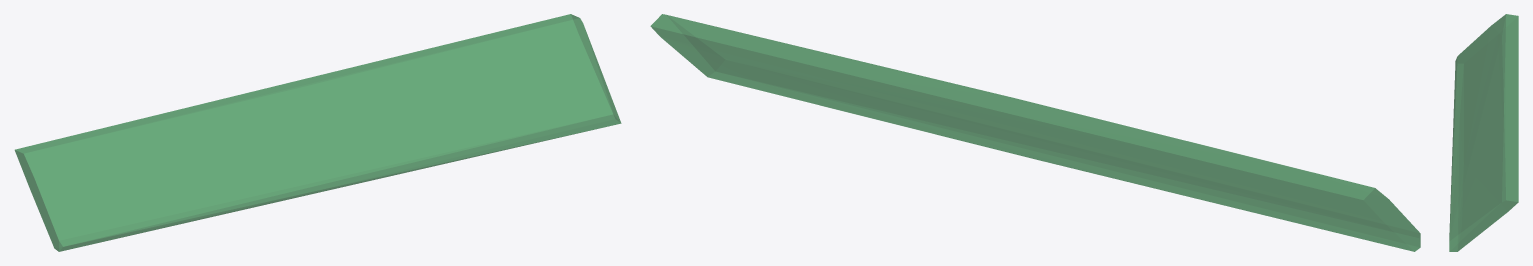
3 views of the same model, side by side, from view 1: azimuth 30°, elevation 25°; view 2: azimuth 150°, elevation 25°; view 3: azimuth 270°, elevation 25° (orthographic). The views are drawn at different scales.
Parts seen in each view (by area): view 1: Shape_IndexedFaceSet.008_Shape_IndexedFaceSet.3393; view 2: Shape_IndexedFaceSet.008_Shape_IndexedFaceSet.3393; view 3: Shape_IndexedFaceSet.008_Shape_IndexedFaceSet.3393.
Part boxes in pixels (left/top/right/bottom): Shape_IndexedFaceSet.008_Shape_IndexedFaceSet.3393: left=14, top=14, right=621, bottom=251; Shape_IndexedFaceSet.008_Shape_IndexedFaceSet.3393: left=650, top=14, right=1420, bottom=251; Shape_IndexedFaceSet.008_Shape_IndexedFaceSet.3393: left=1449, top=14, right=1518, bottom=251.
Size of the model in its own units: 0.2472 by 0.0319 by 0.039.
